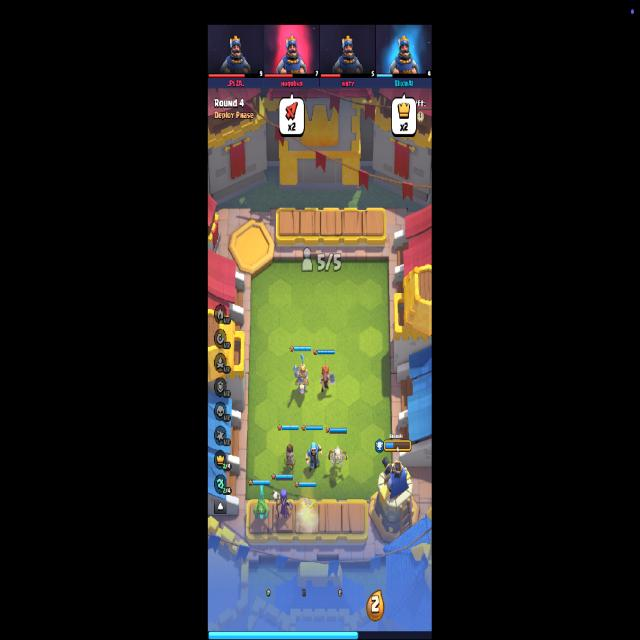baby_dragon: (253, 484, 270, 522)
card_skeleton_dragon: (327, 445, 348, 471)
prince: (293, 353, 309, 392)
princess: (284, 443, 296, 472)
spear_goblin: (300, 497, 317, 528)
valkyrie: (319, 365, 335, 396)
witch: (272, 487, 293, 523)
wizard: (306, 442, 322, 472)
